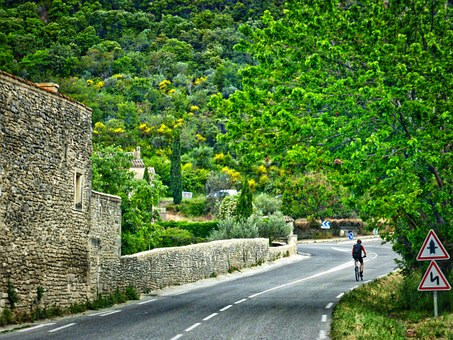bikerider: (348, 235, 371, 285)
